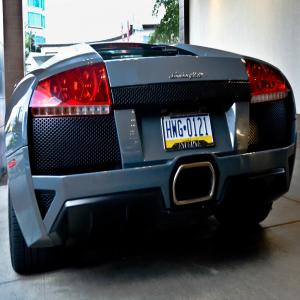Vehicle-registration-plate: (167, 109, 219, 155)
